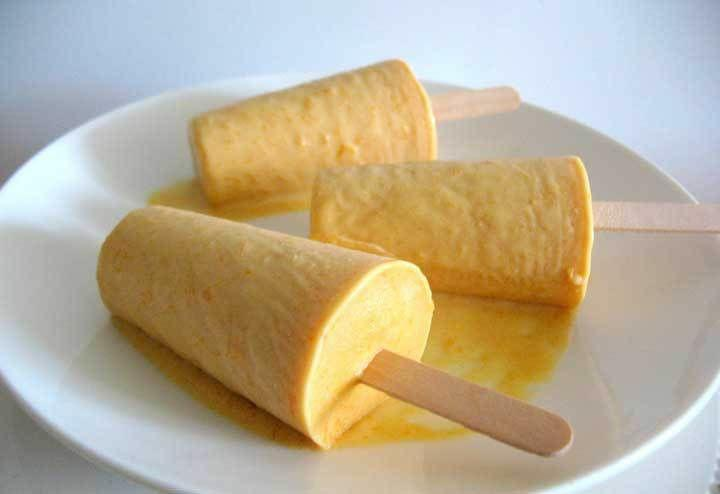Kulfi: (98, 204, 435, 450), (311, 155, 594, 312), (191, 61, 435, 210)
